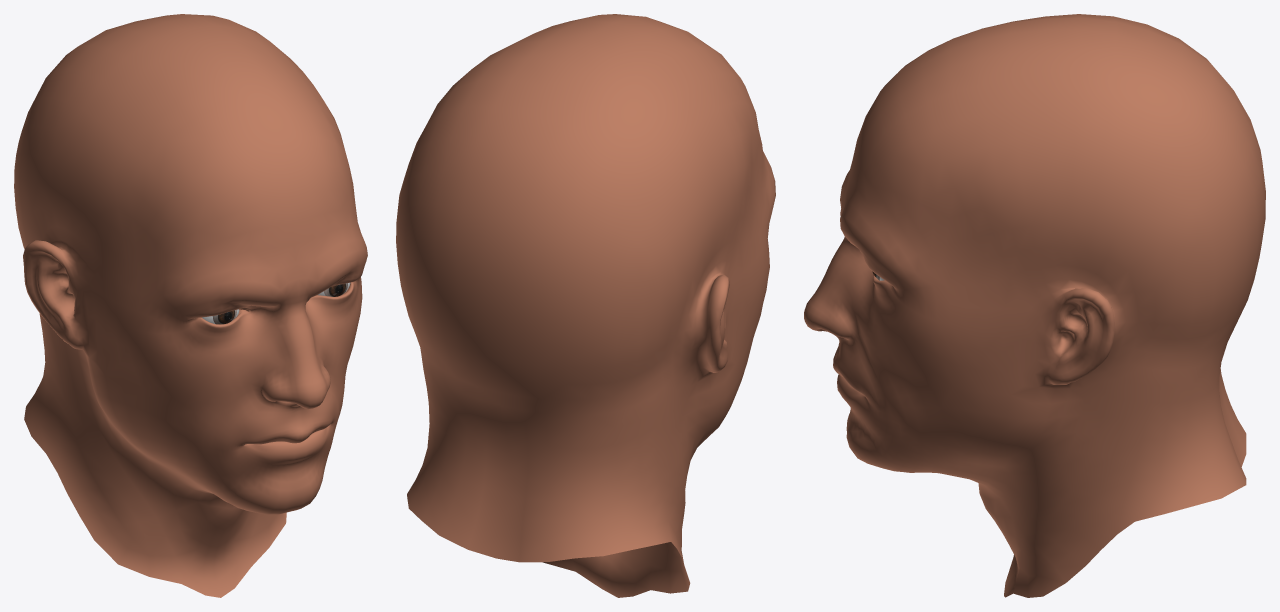
The model's file is head.glb.
3 renders of one model, left to right at view 1: azimuth 30°, elevation 25°; view 2: azimuth 150°, elevation 25°; view 3: azimuth 270°, elevation 25°, orthographic. The views are drawn at different scales.
Parts seen in each view (by area): view 1: Object_2, Object_3; view 2: Object_2; view 3: Object_2.
Boxes of the visible parts, x1=… form: Object_2: x1=14, y1=14, x2=367, y2=597; Object_3: x1=202, y1=282, x2=350, y2=324; Object_2: x1=396, y1=14, x2=775, y2=597; Object_2: x1=804, y1=14, x2=1265, y2=597.
Size of the model in its own units: 0.1767 by 0.3092 by 0.2288.
Materials: 2 (1 with a texture image).
